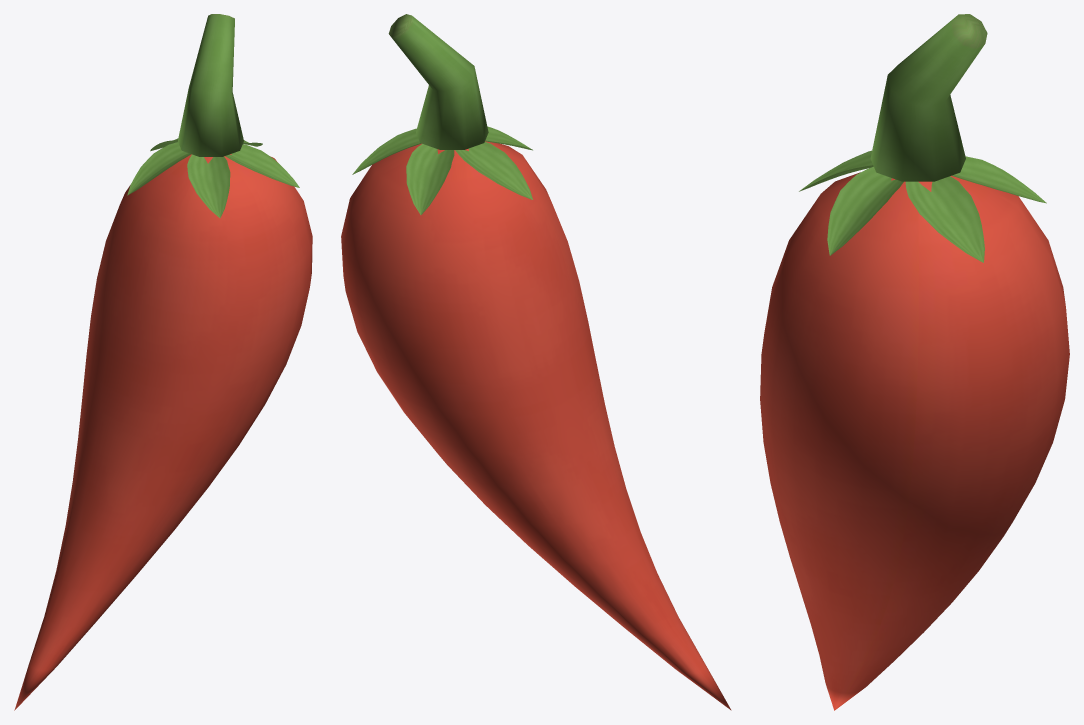
3 views of the same model, side by side, from view 1: azimuth 30°, elevation 25°; view 2: azimuth 150°, elevation 25°; view 3: azimuth 270°, elevation 25° (orthographic). The views are drawn at different scales.
Parts seen in each view (by area): view 1: pepper; view 2: pepper; view 3: pepper.
Boxes of the visible parts, x1,y1,x2,y2 form: pepper: [14, 14, 312, 710]; pepper: [341, 14, 731, 710]; pepper: [760, 14, 1069, 710].
Bounding box in the file's own units: 0.1288 × 0.235 × 0.0757.
1 material, 1 textured.
